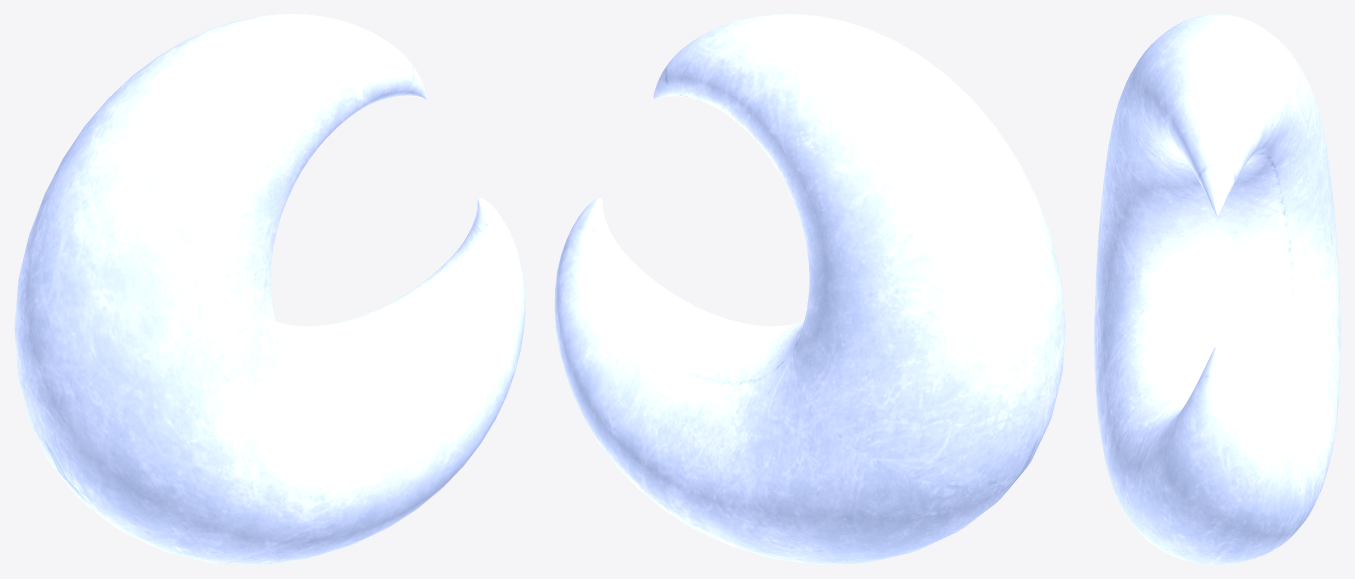
File: crescent_moon.glb
3 views of the same model, side by side, from view 1: azimuth 30°, elevation 25°; view 2: azimuth 150°, elevation 25°; view 3: azimuth 270°, elevation 25° (orthographic). The views are drawn at different scales.
Visible parts, largest first — view 1: pCylinder4; view 2: pCylinder4; view 3: pCylinder4.
Boxes of the visible parts, x1,y1,x2,y2 form: pCylinder4: (14, 14, 525, 564); pCylinder4: (554, 14, 1065, 564); pCylinder4: (1094, 14, 1340, 564).
Bounding box in the file's own units: 0.0534 × 0.0552 × 0.025.
1 material, 1 textured.
